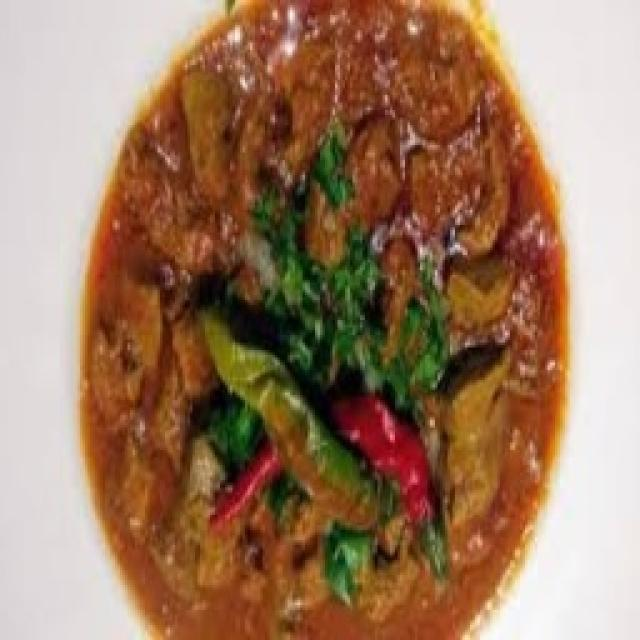Kamouniya: (81, 0, 566, 640)
